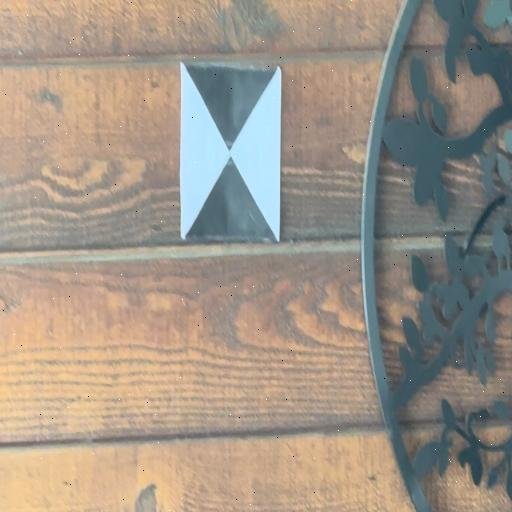target: (179, 63, 280, 240)
